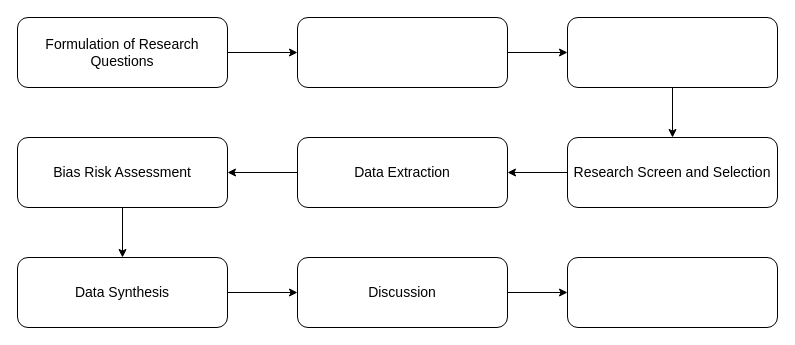
Some shapes in this 795 by 345 pixel diagram are drawn without their labels. Here are the shapes that lost their labels. From the top down, the centre of each, then its label:
point 402,52: Protocol
point 672,52: Search Strategy
point 672,292: Conclusion and Recommendations
